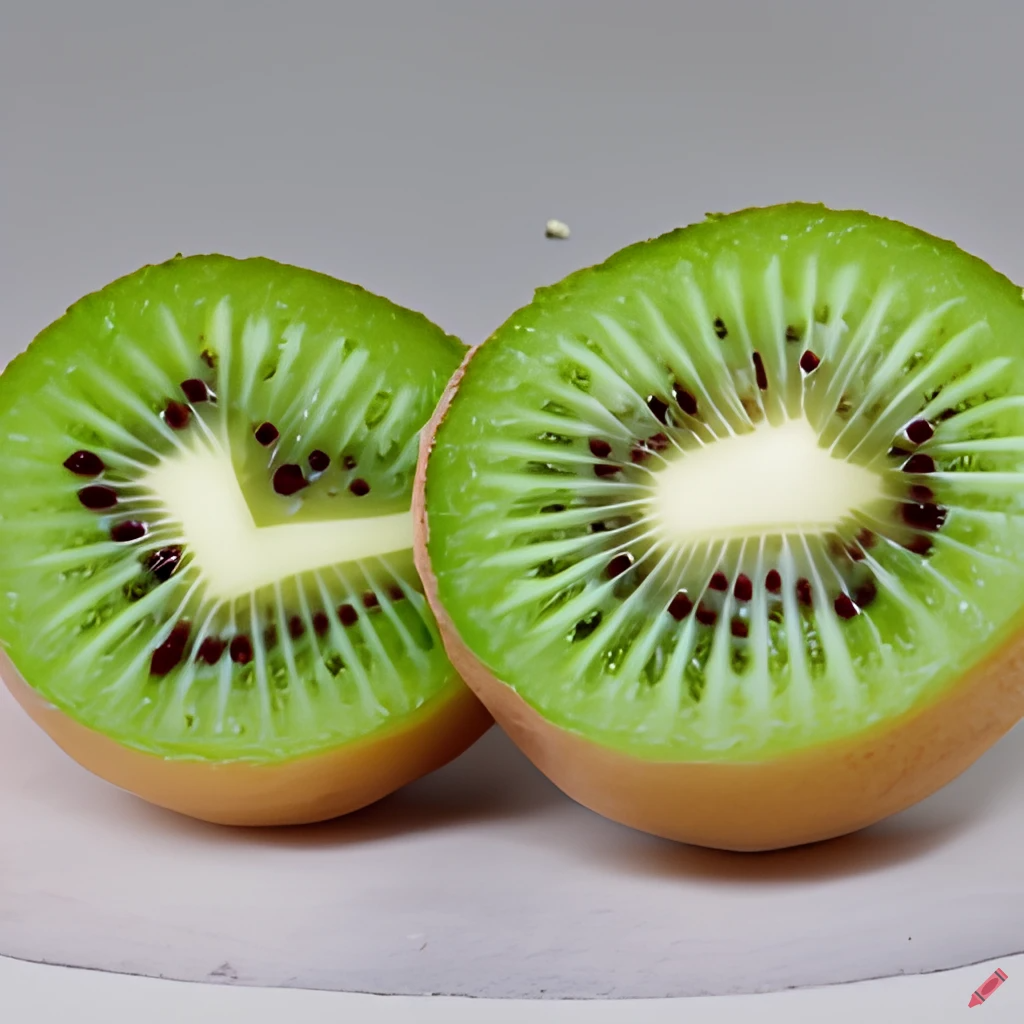Kiwi: (393, 131, 1012, 878)
